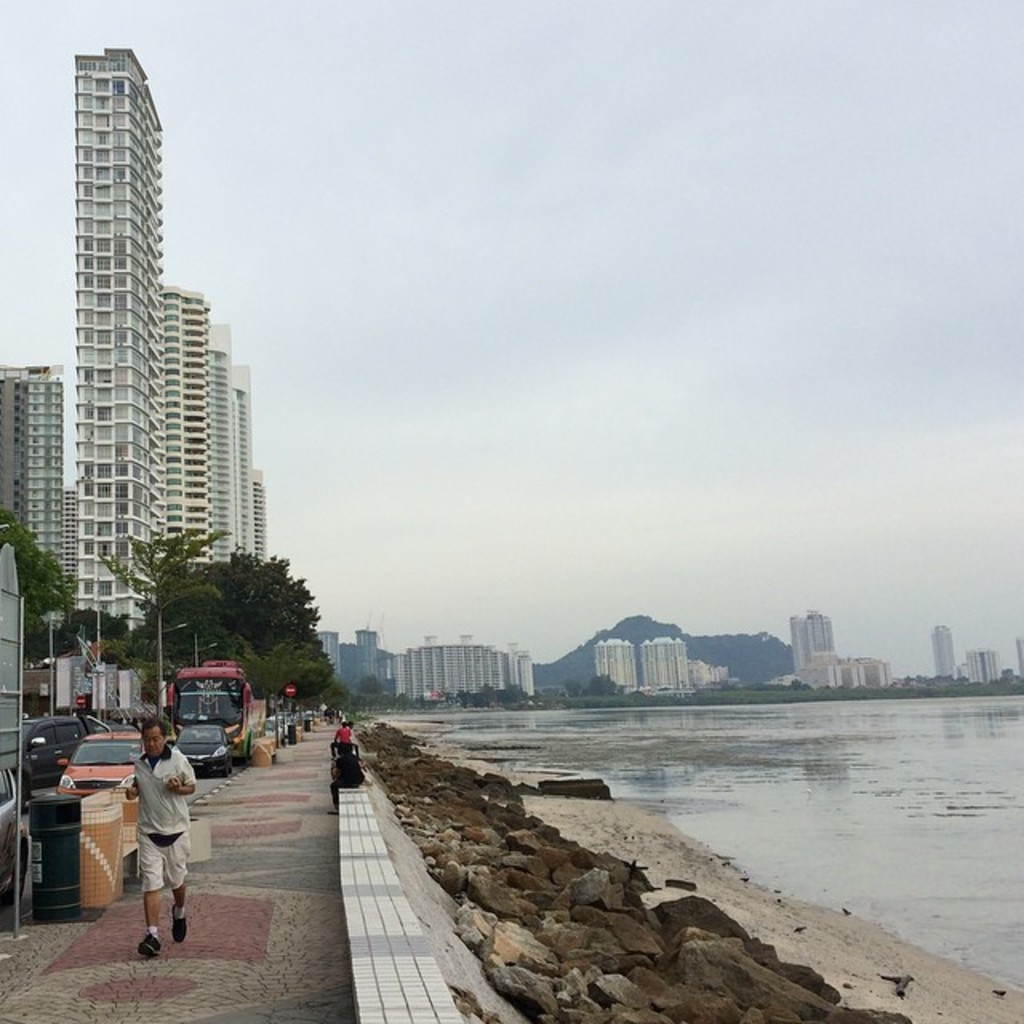Tree: (379, 601, 1022, 716), (80, 534, 377, 705), (0, 500, 51, 624)
